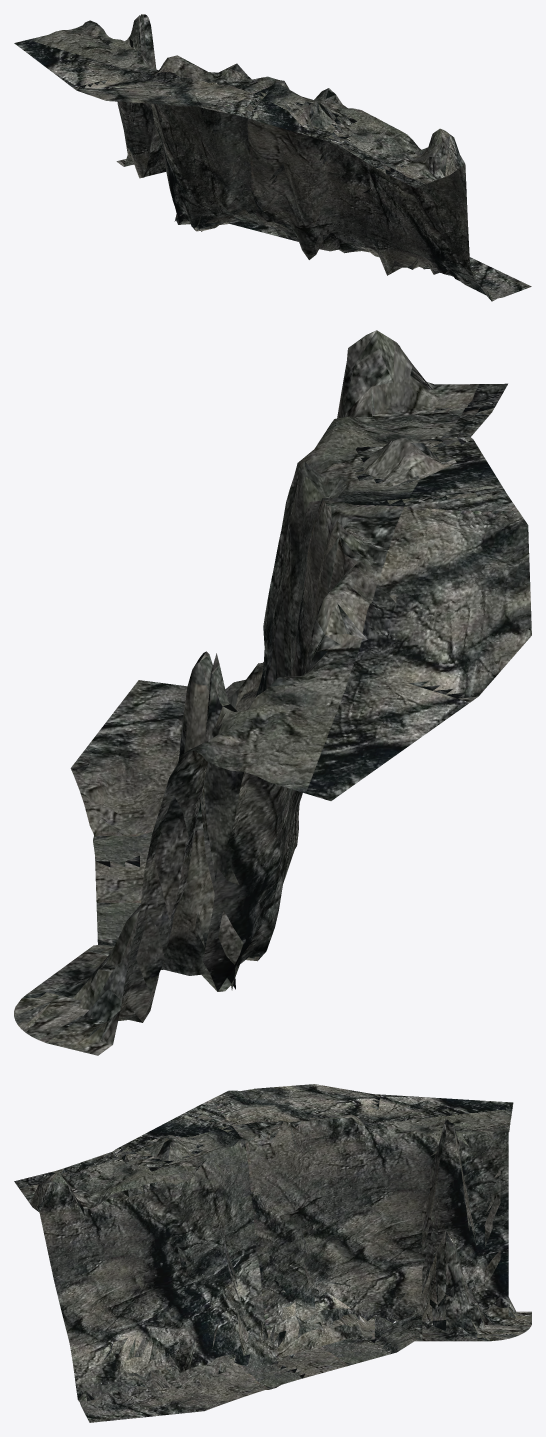
The model's file is Custom_Model_3bf8cd-transformed.glb.
3 renders of one model, top to bottom at view 1: azimuth 30°, elevation 25°; view 2: azimuth 150°, elevation 25°; view 3: azimuth 270°, elevation 25°, orthographic. The views are drawn at different scales.
Parts seen in each view (by area): view 1: SketchUp_ID2; view 2: SketchUp_ID2; view 3: SketchUp_ID2.
Boxes of the visible parts, <box> form: SketchUp_ID2: <box>14,14,531,301</box>; SketchUp_ID2: <box>14,330,531,1055</box>; SketchUp_ID2: <box>14,1084,531,1422</box>.
Bounding box in the file's own units: 8.68 × 5.37 × 12.18.
1 material, 1 textured.
